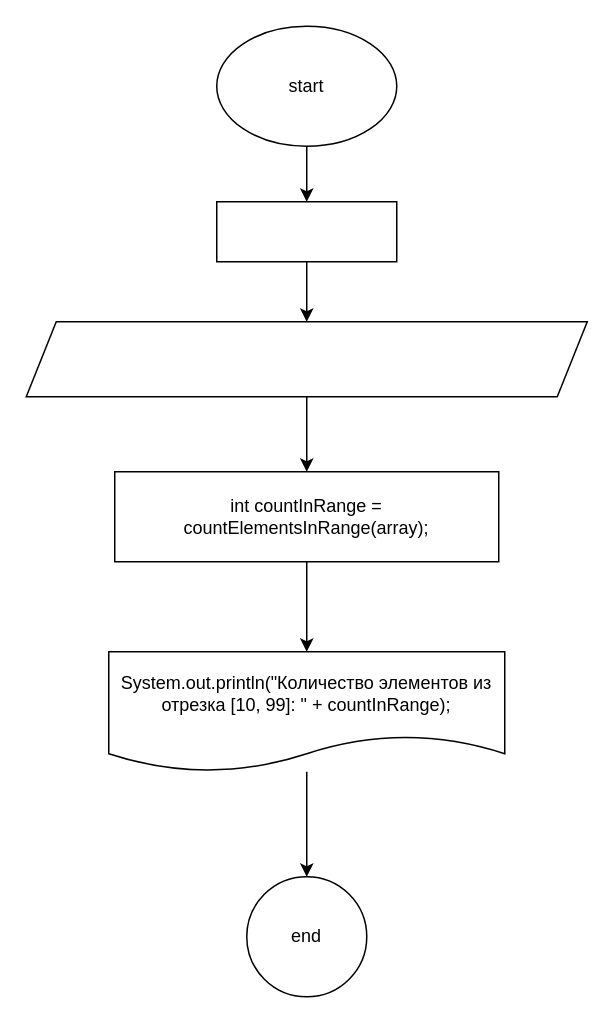
The diagram is 614 pixels wide and 1023 high, and some of its shapes have lost their labels. The shapes that lost their labels are listed below. From the top down, each one's centre as x and y in pixels, then its label:
pixel 306 231: int[] array
pixel 306 358: createArray(123) array[i] = (int) (Math.random() * 123) + 1;
